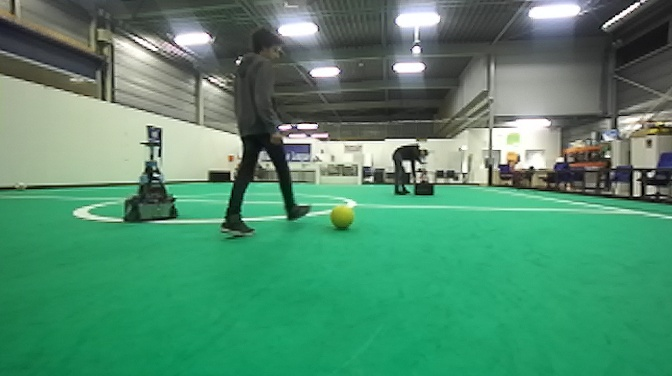ball: (326, 202, 356, 233), (11, 180, 28, 193)
goal: (315, 162, 365, 187)
goalpost: (315, 160, 322, 186), (357, 161, 364, 187)
human: (216, 25, 318, 241), (389, 140, 430, 197)
robot: (120, 139, 181, 225), (411, 160, 437, 198)
